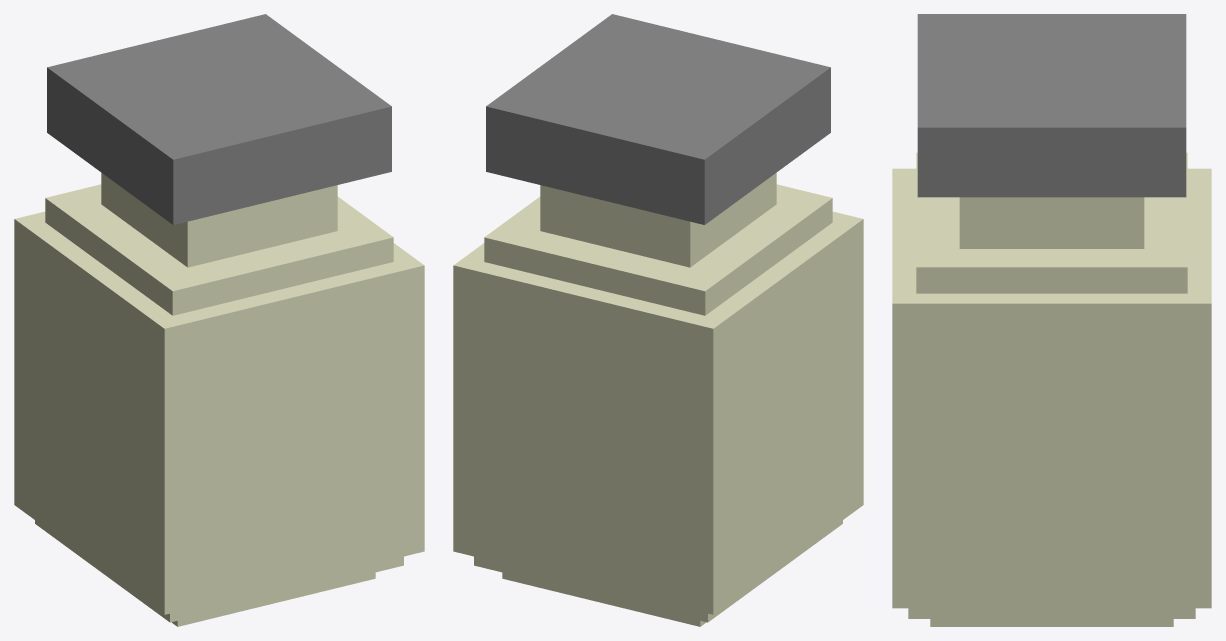
File: lamp2.fbx
The picture shows the model from 3 angles, left to right: view 1: azimuth 30°, elevation 25°; view 2: azimuth 150°, elevation 25°; view 3: azimuth 270°, elevation 25°; orthographic projection. The views are drawn at different scales.
Visible parts, largest first — view 1: lamp2; view 2: lamp2; view 3: lamp2.
Part boxes in pixels (x1=…): lamp2: x1=14, y1=14, x2=424, y2=626; lamp2: x1=453, y1=14, x2=863, y2=626; lamp2: x1=892, y1=14, x2=1211, y2=626.
Size of the model in its own units: 24.96 by 43.5 by 24.96.
